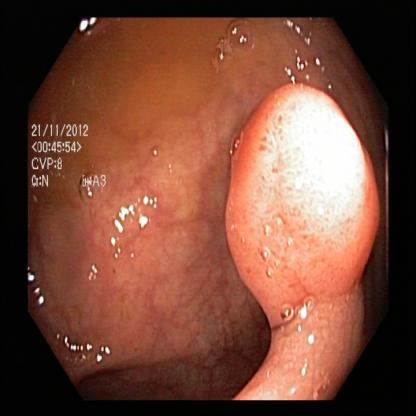Labels: (27, 120, 121, 202)
Polyps: (224, 85, 377, 297)
